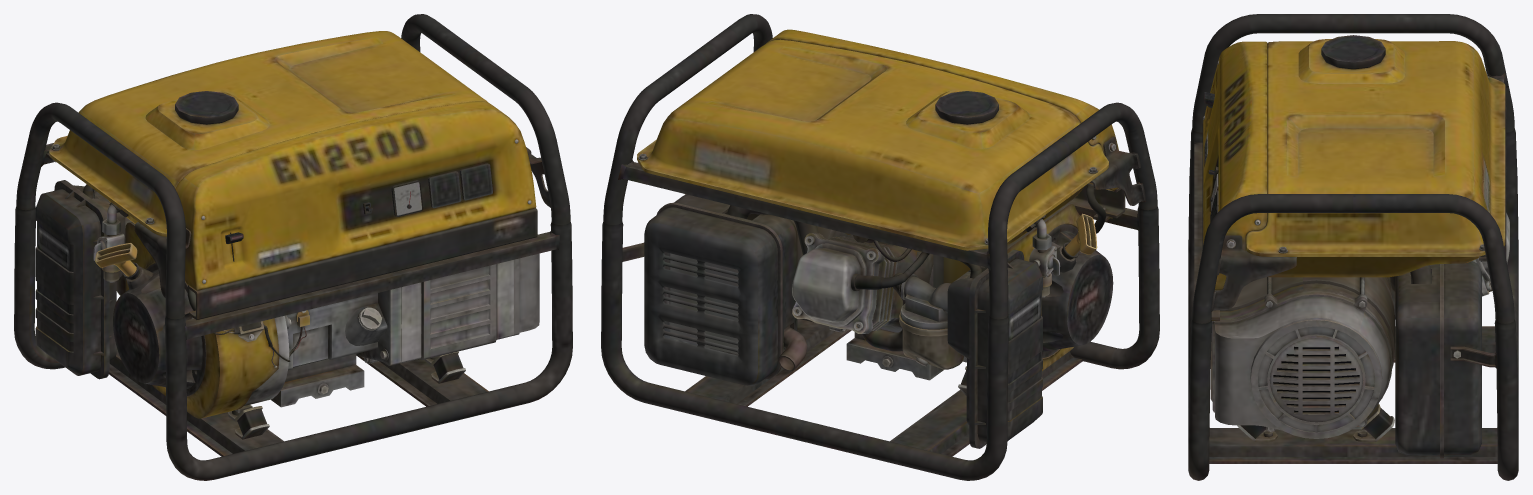
The model's file is portable-generator.glb.
3 views of the same model, side by side, from view 1: azimuth 30°, elevation 25°; view 2: azimuth 150°, elevation 25°; view 3: azimuth 270°, elevation 25° (orthographic).
Parts seen in each view (by area): view 1: portable_generator; view 2: portable_generator; view 3: portable_generator.
Boxes of the visible parts, x1,y1,x2,y2 form: portable_generator: (14, 14, 572, 480); portable_generator: (601, 14, 1159, 480); portable_generator: (1188, 14, 1518, 480).
Bounding box in the file's own units: 0.8183 × 0.5769 × 0.564.
2 materials, 2 textured.
